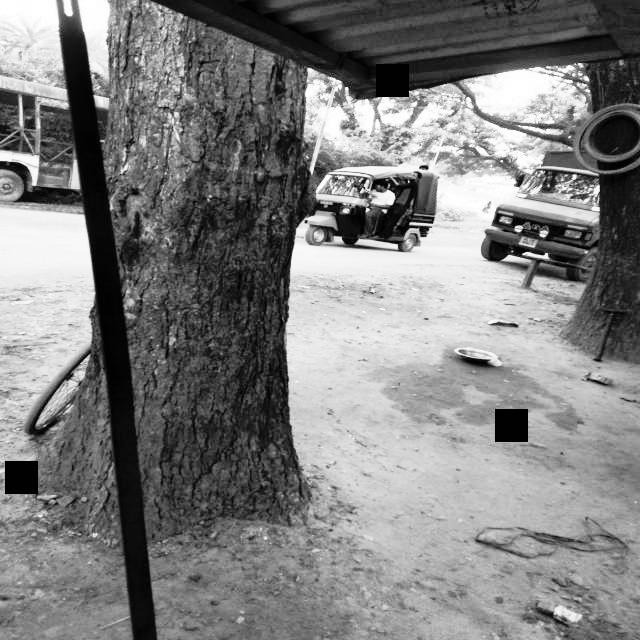Auto-Rickshaw: (313, 149, 444, 257)
